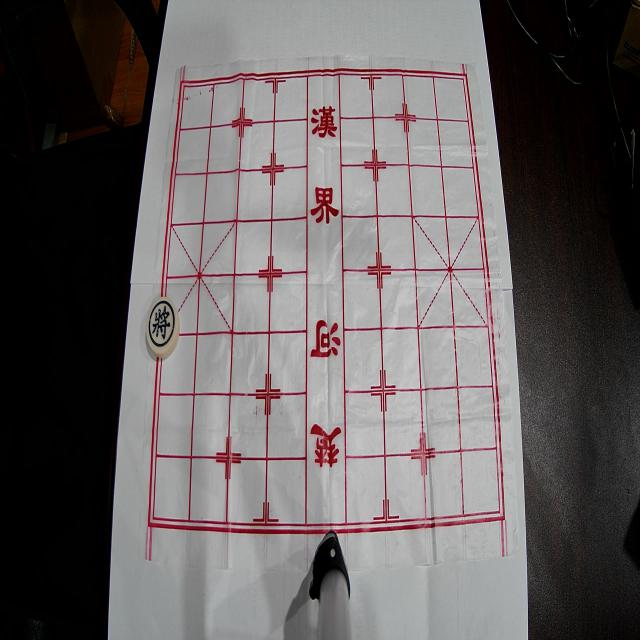black-general: (146, 297, 180, 359)
